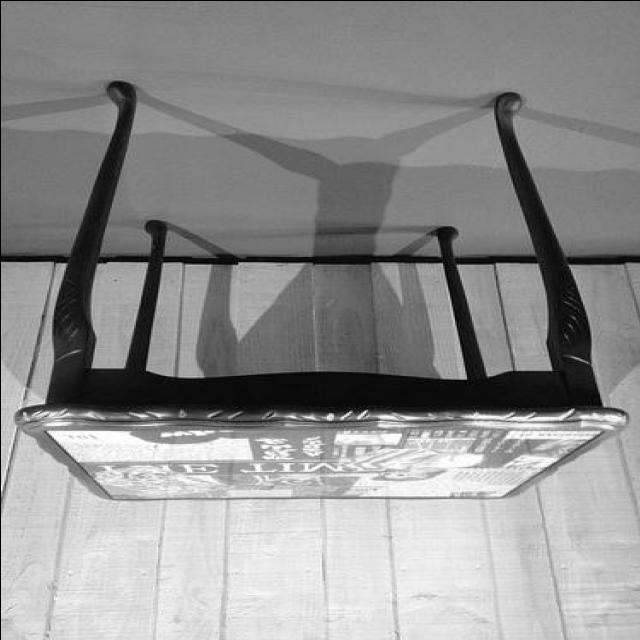table: (18, 84, 626, 502)
